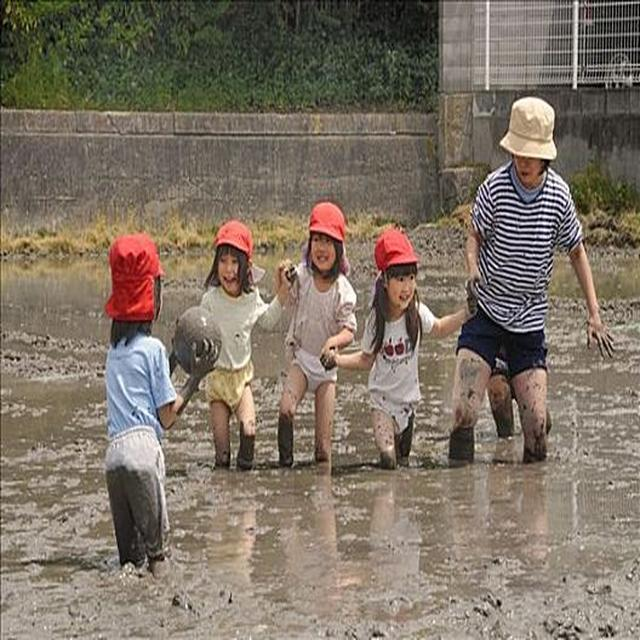Person-RiskLevel2: (454, 88, 620, 472), (93, 225, 207, 573), (339, 225, 458, 476), (274, 193, 361, 482), (188, 212, 263, 475)
